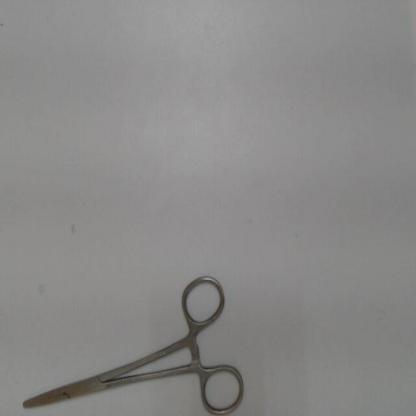Mayo Needle Holder: (13, 267, 252, 414)
